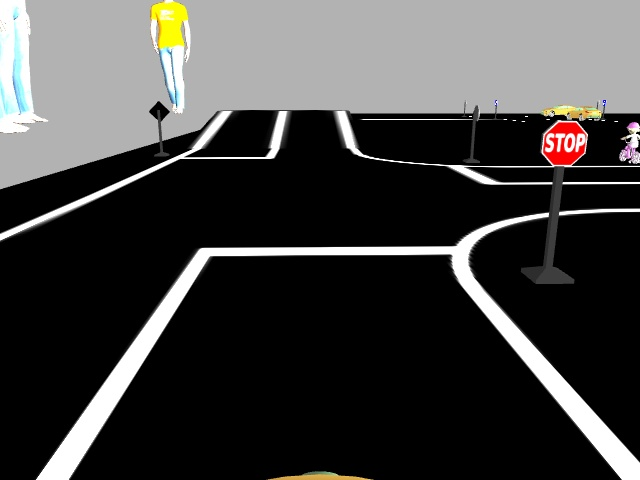Pedestrian: (619, 116, 639, 166)
Stop: (539, 121, 589, 167)
